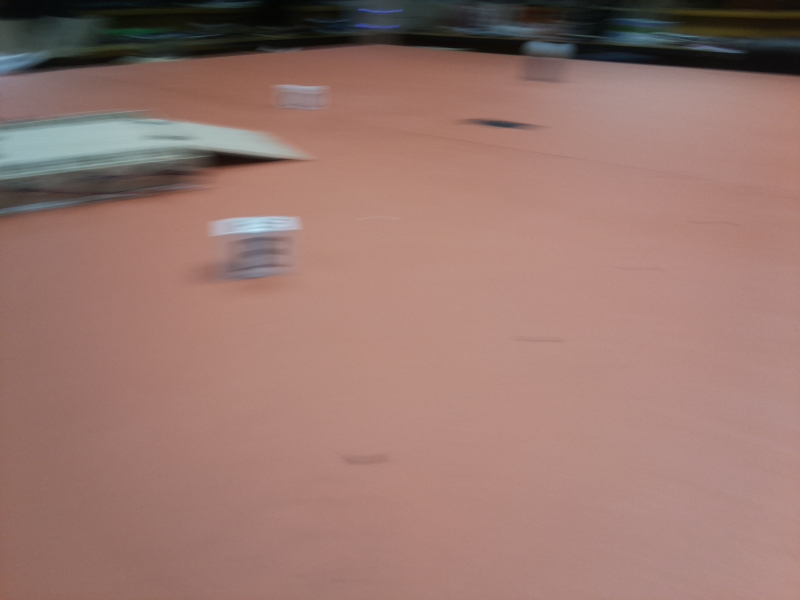blockC: (270, 83, 329, 114)
blockE: (213, 215, 303, 289)
corner: (356, 1, 406, 49)
obstacle: (528, 40, 569, 86)
side: (6, 154, 215, 210)
slope: (183, 121, 319, 169)
start: (457, 111, 545, 142)
